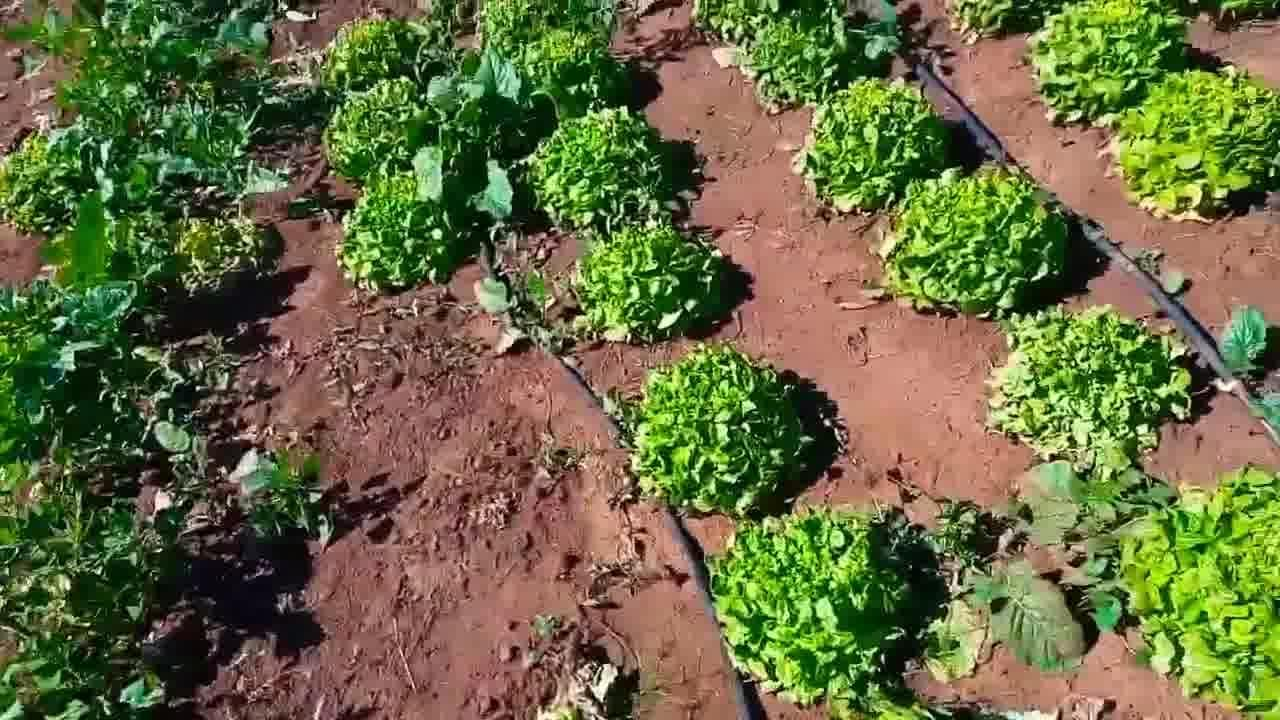healthy: (1107, 467, 1280, 715), (713, 499, 916, 708), (981, 302, 1183, 466), (882, 160, 1069, 328), (621, 346, 807, 514), (1109, 62, 1280, 234), (796, 70, 948, 222), (566, 224, 734, 348), (1026, 0, 1189, 126), (535, 107, 666, 234), (725, 0, 865, 110), (338, 174, 454, 297), (477, 0, 614, 100), (320, 74, 426, 191), (325, 19, 403, 103)
